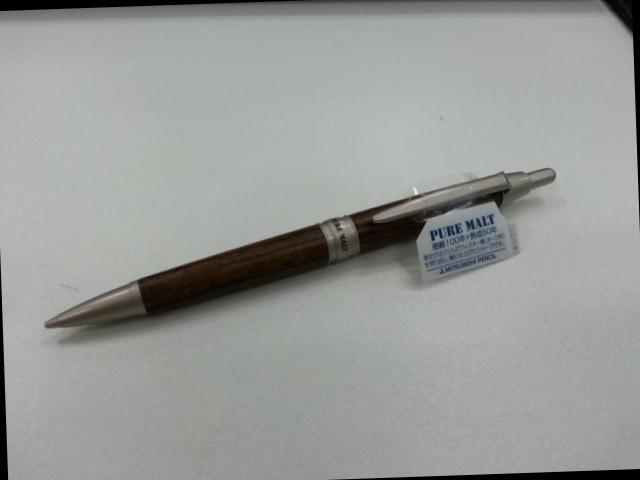PEN: (20, 140, 564, 352)
